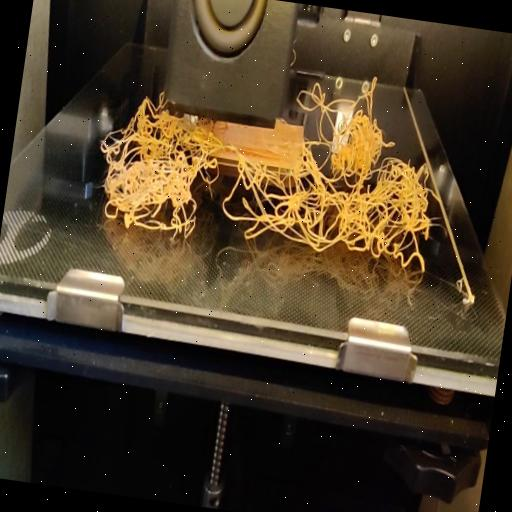spaghetti: (84, 100, 450, 288), (292, 60, 402, 142)
